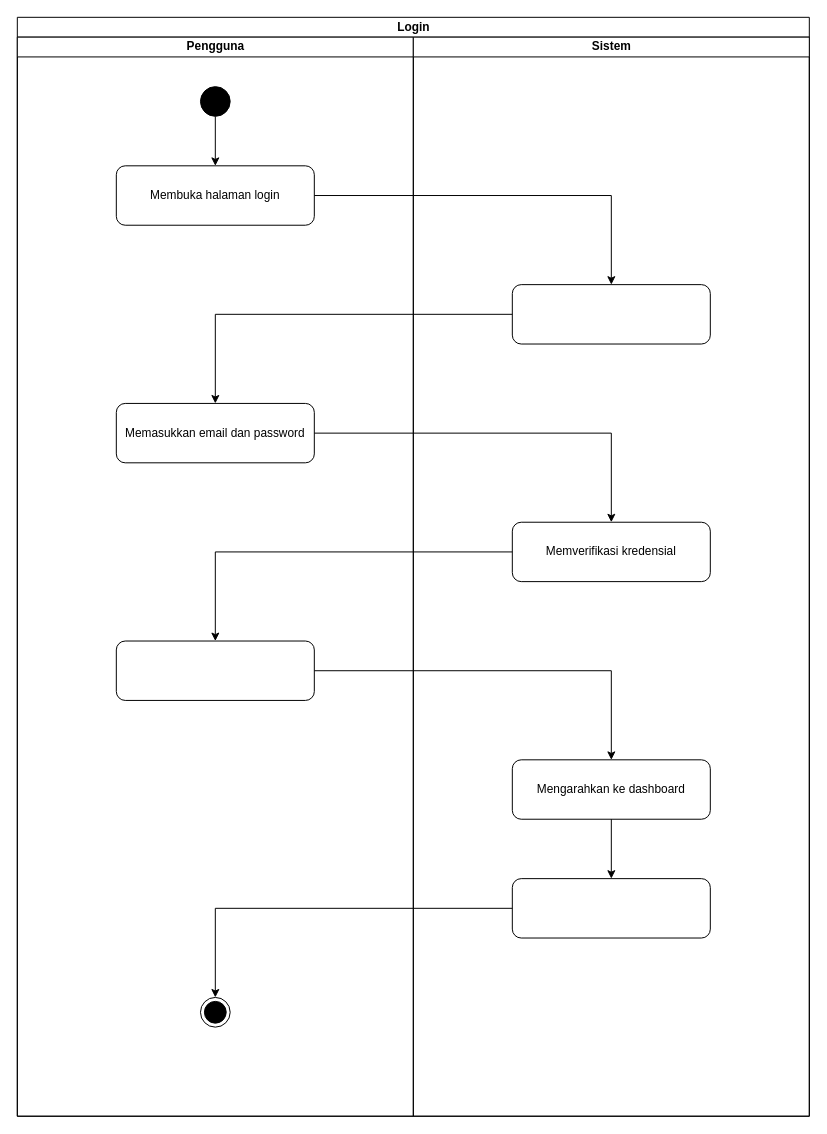
Some shapes in this 827 by 1134 pixel diagram are drawn without their labels. The shapes that lost their labels are listed below. From the top down, each one's centre as x and y in pixels, then its label:
At point 610,314: "Menampilkan halaman login".
At point 214,670: "Klik tombol login".
At point 610,908: "Menampilkan pesan selamat datang".
